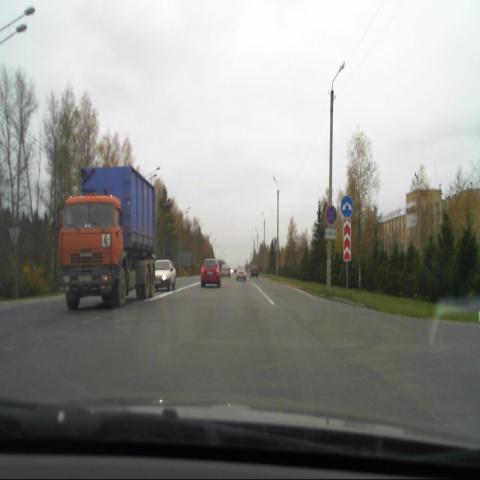4_2_3: (340, 196, 354, 218)
